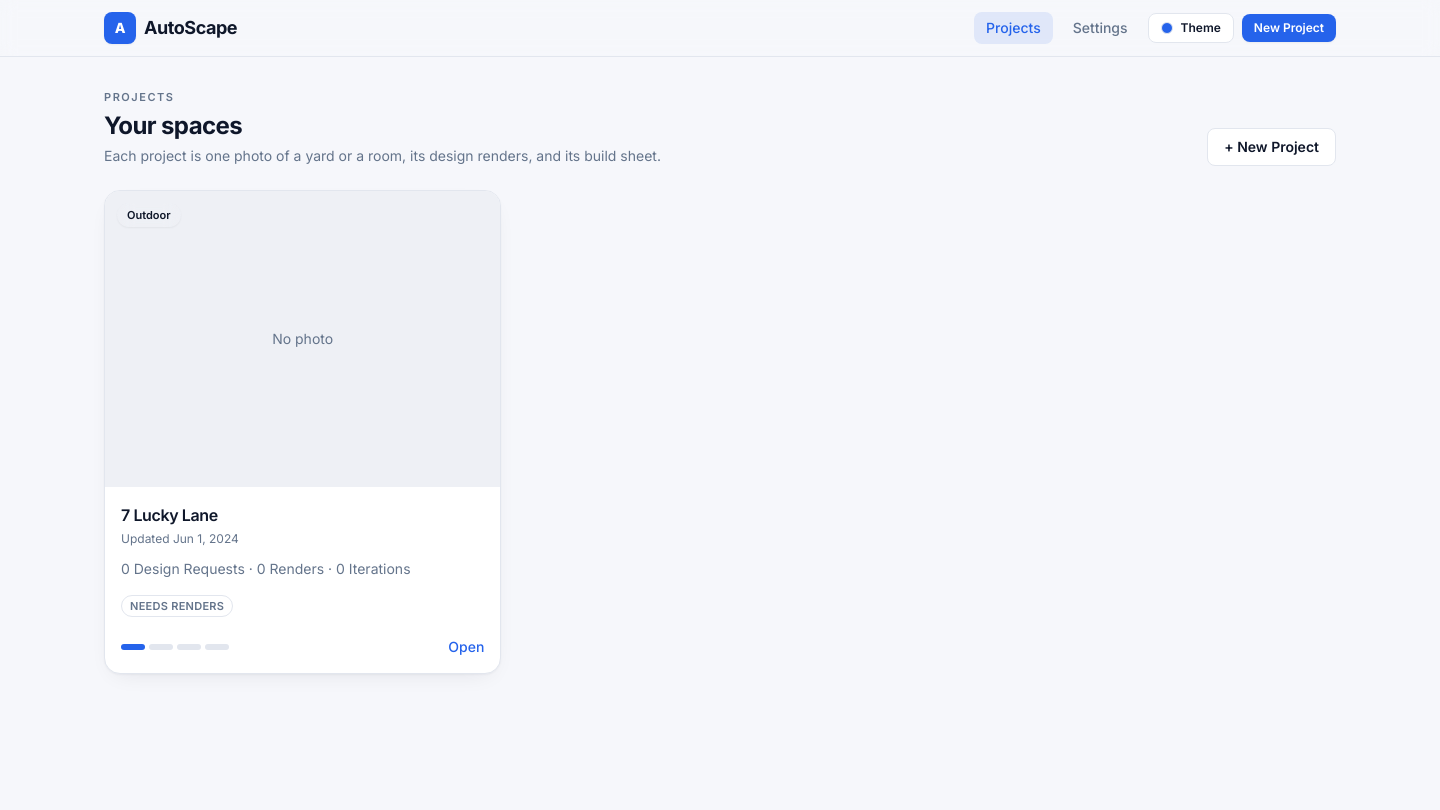
Test: ProjectListPage — with projects › navigates to project detail when a project card is clicked
Step 1. Click the heading "7 Lucky Lane" → (169, 515), box [121,505,218,525]
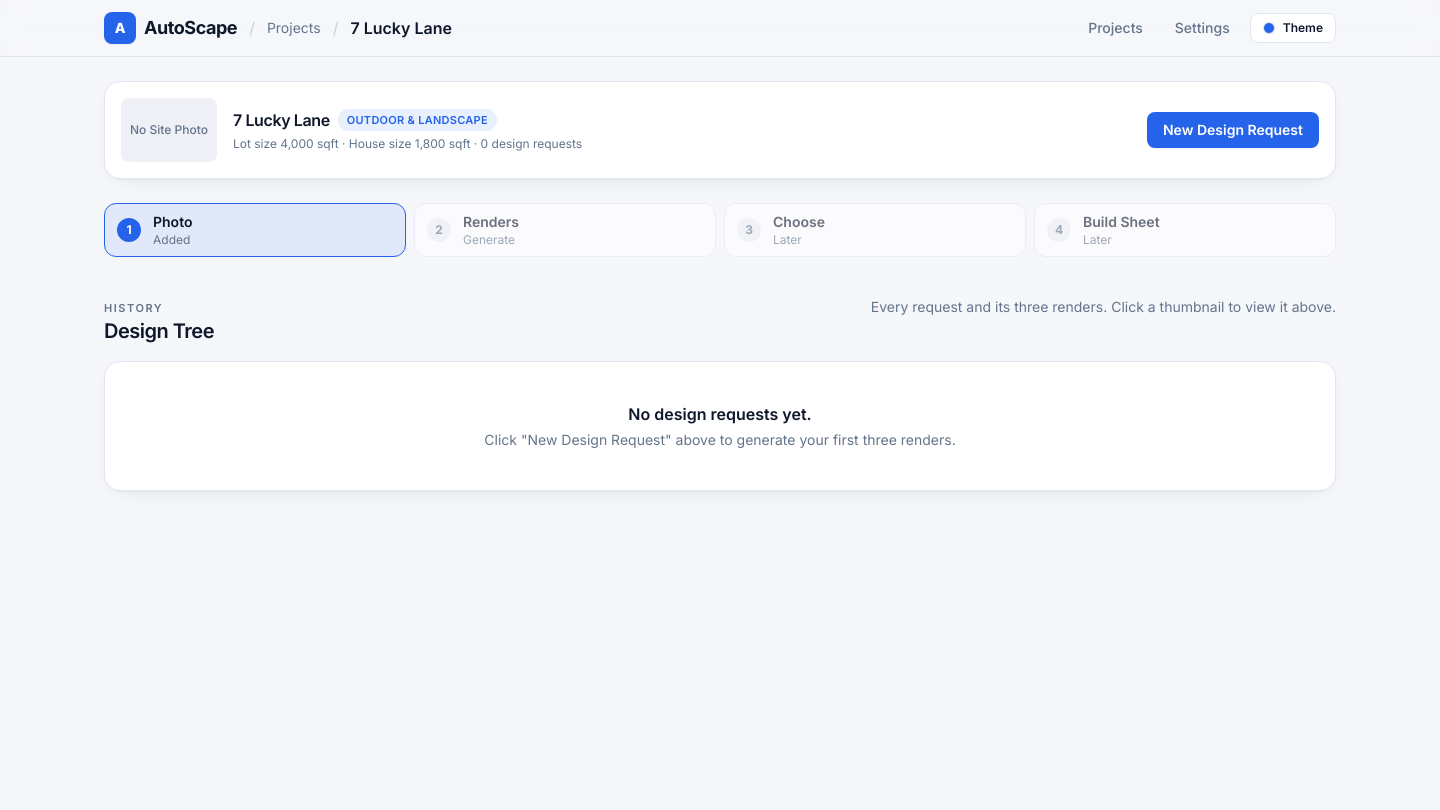
Expected: the text "4,000 sqft" is shown, [233,136,582,151]
